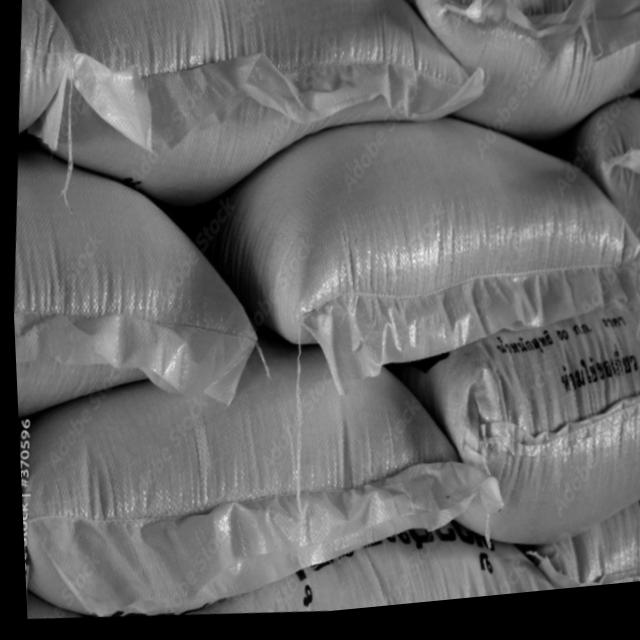sack: (12, 312, 510, 640), (207, 98, 640, 434), (17, 0, 494, 242), (5, 137, 268, 427), (382, 298, 640, 573), (196, 502, 563, 627), (393, 0, 640, 163)
